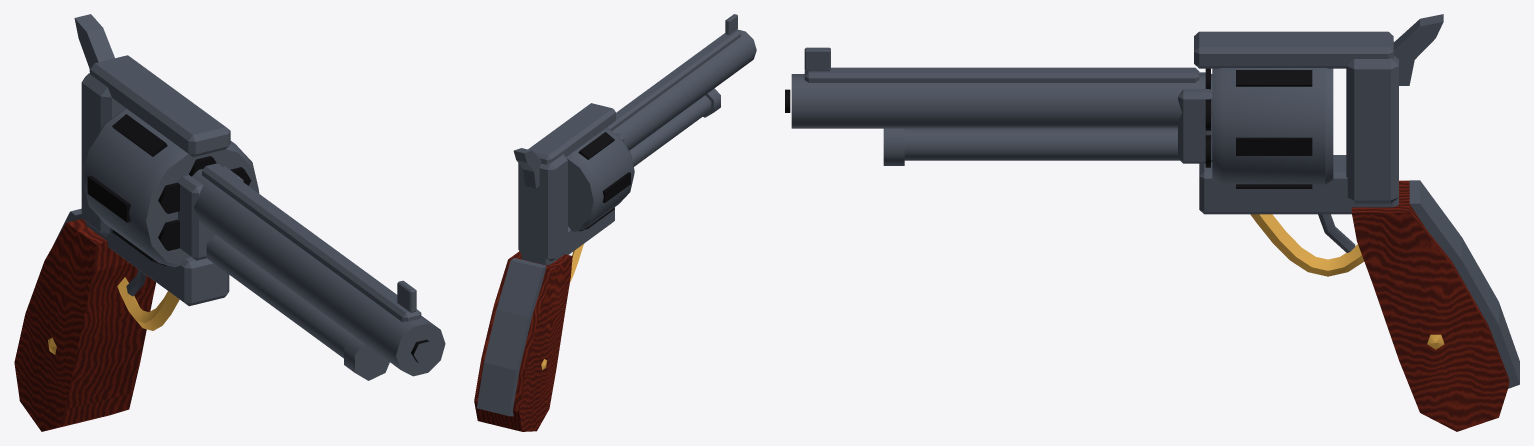
Rendered from tb_revolver2.glb.
The picture shows the model from 3 angles, left to right: view 1: azimuth 30°, elevation 25°; view 2: azimuth 150°, elevation 25°; view 3: azimuth 270°, elevation 25°; orthographic projection. The views are drawn at different scales.
Visible parts, largest first — view 1: tb_revolver; view 2: tb_revolver; view 3: tb_revolver.
Part boxes in pixels (left/top/right/bottom): tb_revolver: left=14, top=14, right=445, bottom=431; tb_revolver: left=474, top=14, right=756, bottom=431; tb_revolver: left=785, top=14, right=1519, bottom=431.
Size of the model in its own units: 0.0536 by 0.167 by 0.2795.
Materials: 4 (1 with a texture image).
